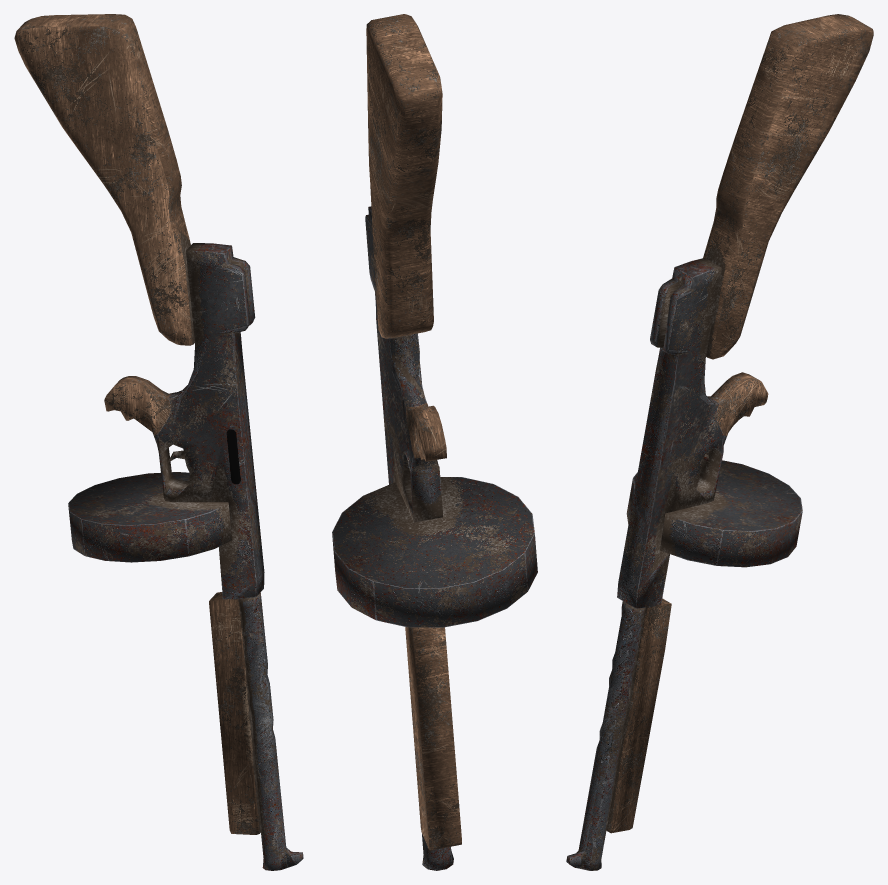
The model's file is Anim_idle_ametralladora_objetos.0053.obj.
The picture shows the model from 3 angles, left to right: view 1: azimuth 30°, elevation 25°; view 2: azimuth 150°, elevation 25°; view 3: azimuth 270°, elevation 25°; orthographic projection. The views are drawn at different scales.
Visible parts, largest first — view 1: Ametralladora1; view 2: Ametralladora1; view 3: Ametralladora1.
Boxes of the visible parts, bbox=[...] form: Ametralladora1: bbox=[14, 14, 303, 870]; Ametralladora1: bbox=[332, 14, 537, 870]; Ametralladora1: bbox=[566, 14, 873, 870].
Bounding box in the file's own units: 1.19 × 5.88 × 2.04.
